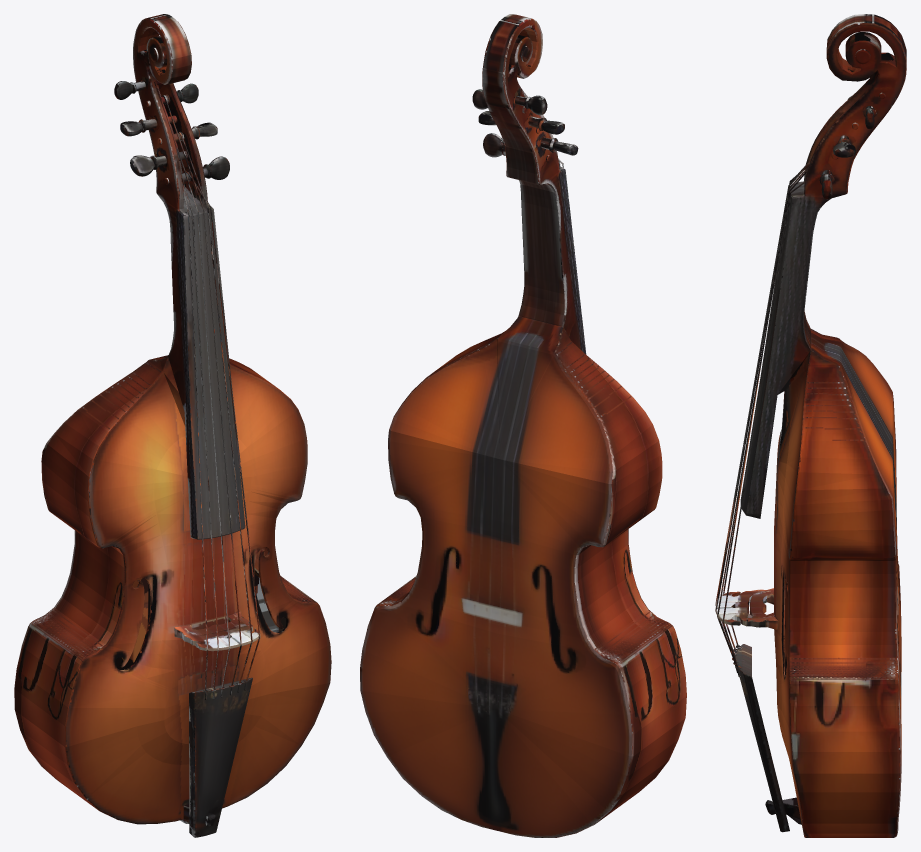
The model's file is textured_error.glb.
3 renders of one model, left to right at view 1: azimuth 30°, elevation 25°; view 2: azimuth 150°, elevation 25°; view 3: azimuth 270°, elevation 25°, orthographic. The views are drawn at different scales.
Visible parts, largest first — view 1: Node; view 2: Node; view 3: Node.
Part boxes in pixels (x1,y1,x2,y2): Node: [14, 14, 331, 837]; Node: [360, 14, 686, 837]; Node: [715, 14, 906, 837].
Size of the model in its own units: 0.7077 by 2 by 0.4291.
Materials: 1 (1 with a texture image).
